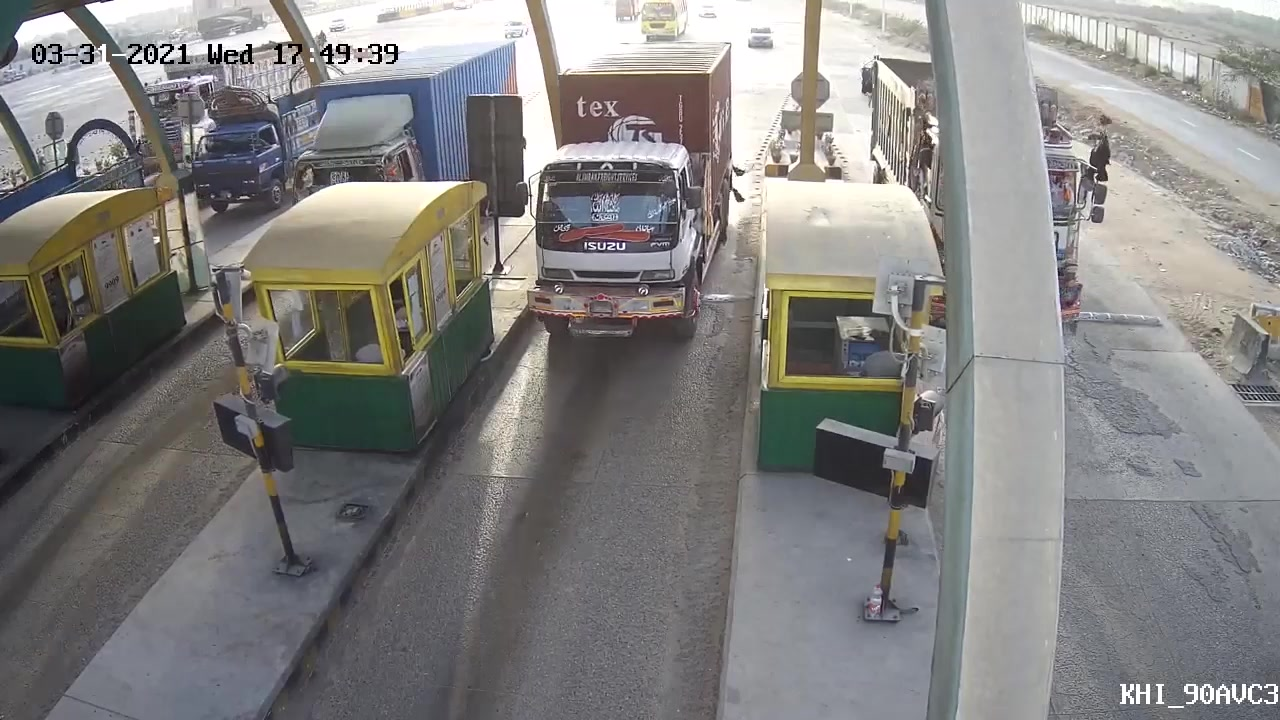F5: (505, 40, 743, 351)
